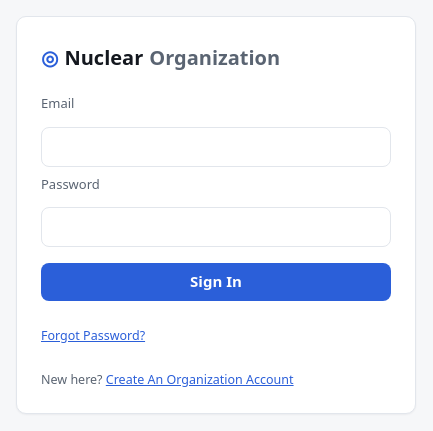
Test: organization portal › refuses a personal account with a clear message
The width and height of the screenshot is (433, 431).
Type "HR@Acme.test" into the field labelled "Email". click: (216, 146)
box: x1=41 y1=126 x2=391 y2=166
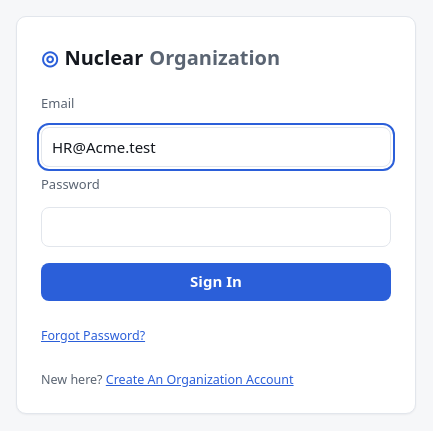
Type "correct horse battery" into the password field labelled "Password". click: (216, 227)
box: x1=41 y1=207 x2=391 y2=247
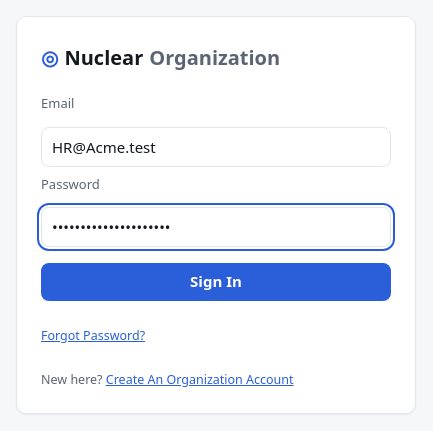
Click the button "Sign In". click: (216, 282)
box: x1=41 y1=263 x2=391 y2=301
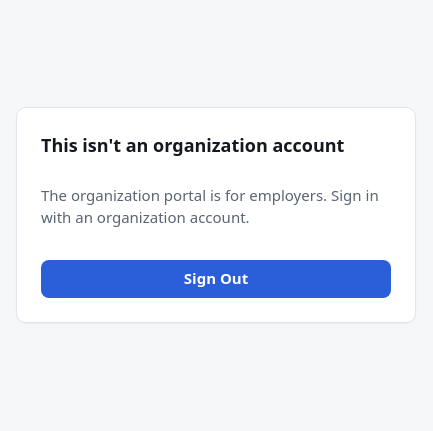
Now the heading "This isn't an organization account" is shown, box x1=41 y1=132 x2=391 y2=158
